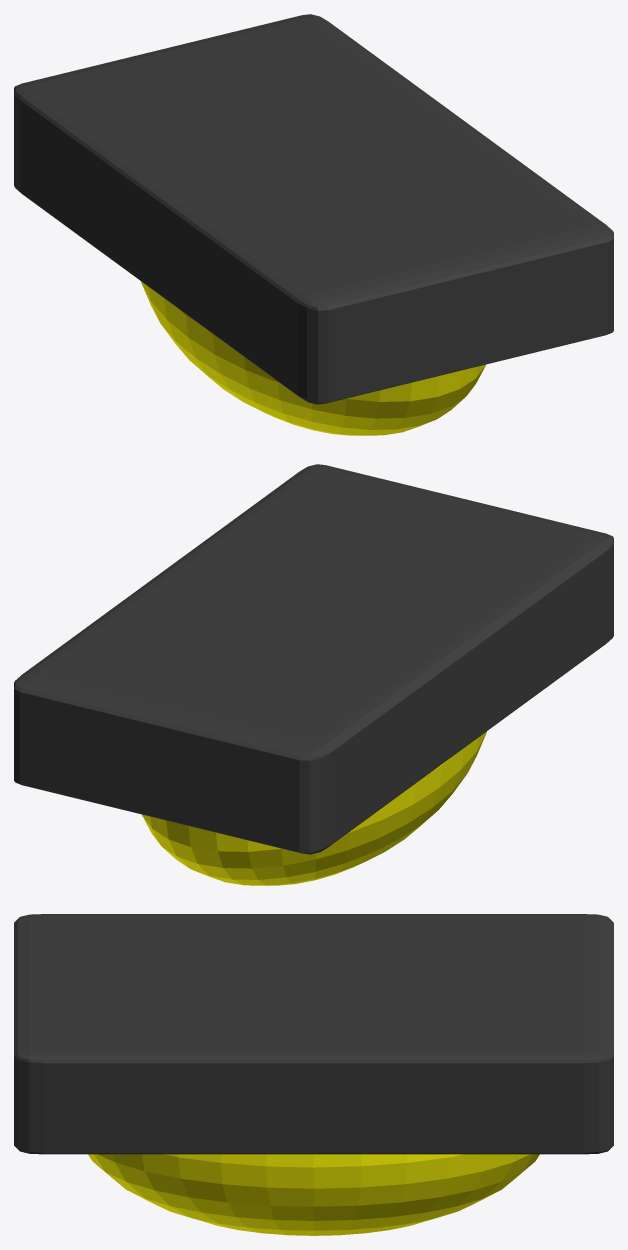
The model's file is LampFull.fbx.
The picture shows the model from 3 angles, top to bottom: view 1: azimuth 30°, elevation 25°; view 2: azimuth 150°, elevation 25°; view 3: azimuth 270°, elevation 25°; orthographic projection. The views are drawn at different scales.
Parts seen in each view (by area): view 1: Base, Lamp; view 2: Base, Lamp; view 3: Base, Lamp.
Part boxes in pixels (<box>): Base: <box>14,14,613,404</box>; Lamp: <box>141,281,486,435</box>; Base: <box>14,464,613,854</box>; Lamp: <box>141,731,486,885</box>; Base: <box>14,914,613,1154</box>; Lamp: <box>88,1154,539,1235</box>.
Size of the model in its own units: 0.8349 by 0.6246 by 1.43.
